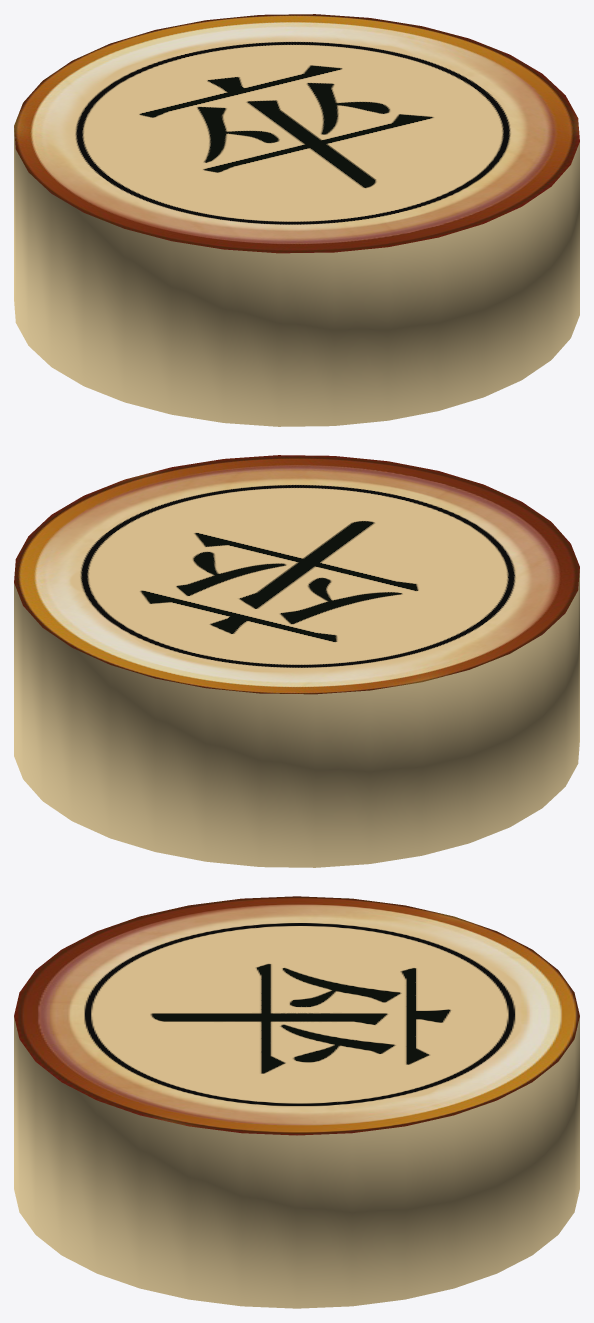
The model's file is tot_den.fbx.
3 renders of one model, top to bottom at view 1: azimuth 30°, elevation 25°; view 2: azimuth 150°, elevation 25°; view 3: azimuth 270°, elevation 25°, orthographic.
Visible parts, largest first — view 1: Cylinder.011; view 2: Cylinder.011; view 3: Cylinder.011.
Boxes of the visible parts, left/top/right/bottom form: Cylinder.011: left=14, top=14, right=579, bottom=426; Cylinder.011: left=14, top=455, right=579, bottom=867; Cylinder.011: left=14, top=896, right=579, bottom=1308.
Bounding box in the file's own units: 200 × 67.52 × 200.
